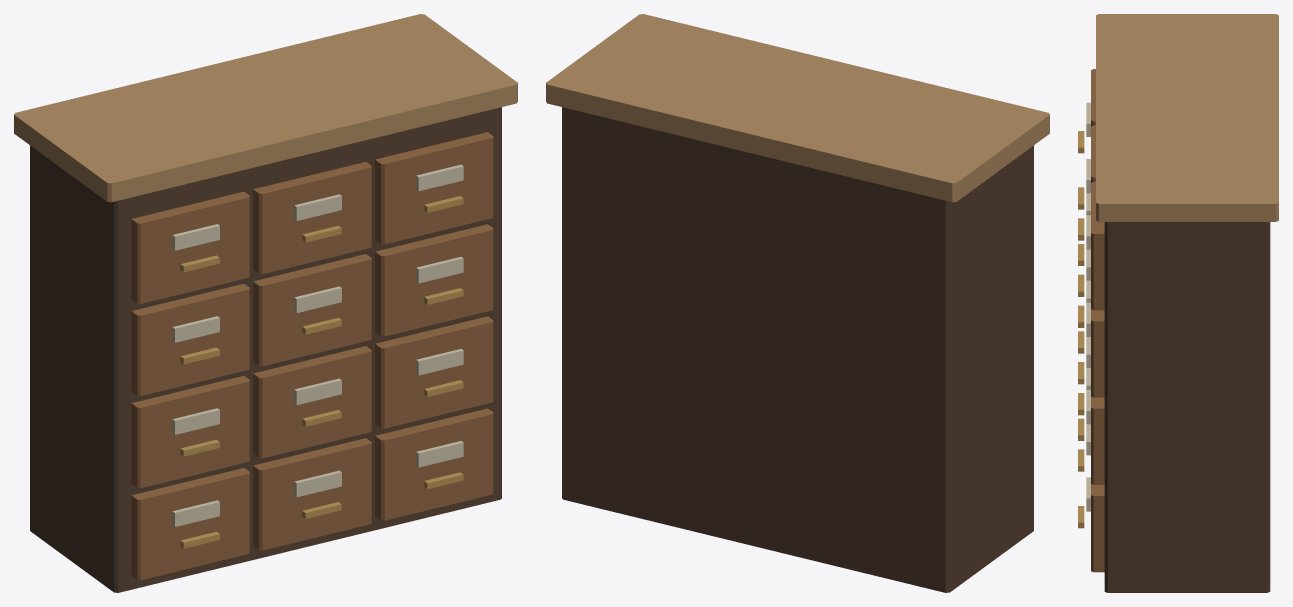
The model's file is cabinet_archives.glb.
3 renders of one model, left to right at view 1: azimuth 30°, elevation 25°; view 2: azimuth 150°, elevation 25°; view 3: azimuth 270°, elevation 25°, orthographic. The views are drawn at different scales.
Parts seen in each view (by area): view 1: geometry; view 2: geometry; view 3: geometry.
Boxes of the visible parts, x1=… form: geometry: x1=14, y1=14, x2=517, y2=592; geometry: x1=546, y1=14, x2=1049, y2=592; geometry: x1=1078, y1=14, x2=1278, y2=592.
Bounding box in the file's own units: 1.82 × 1.76 × 0.8125.
